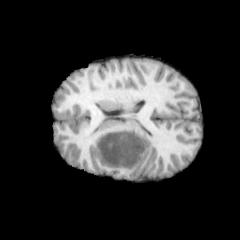glioma: (94, 129, 150, 169)
